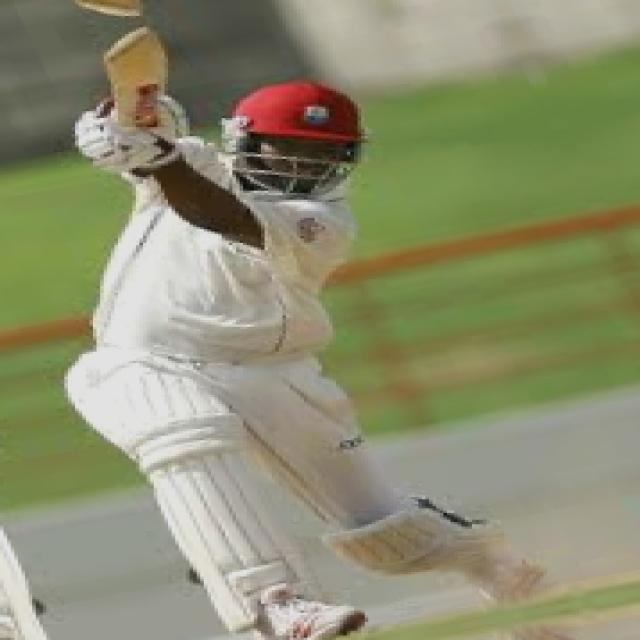toe: (75, 13, 186, 68)
